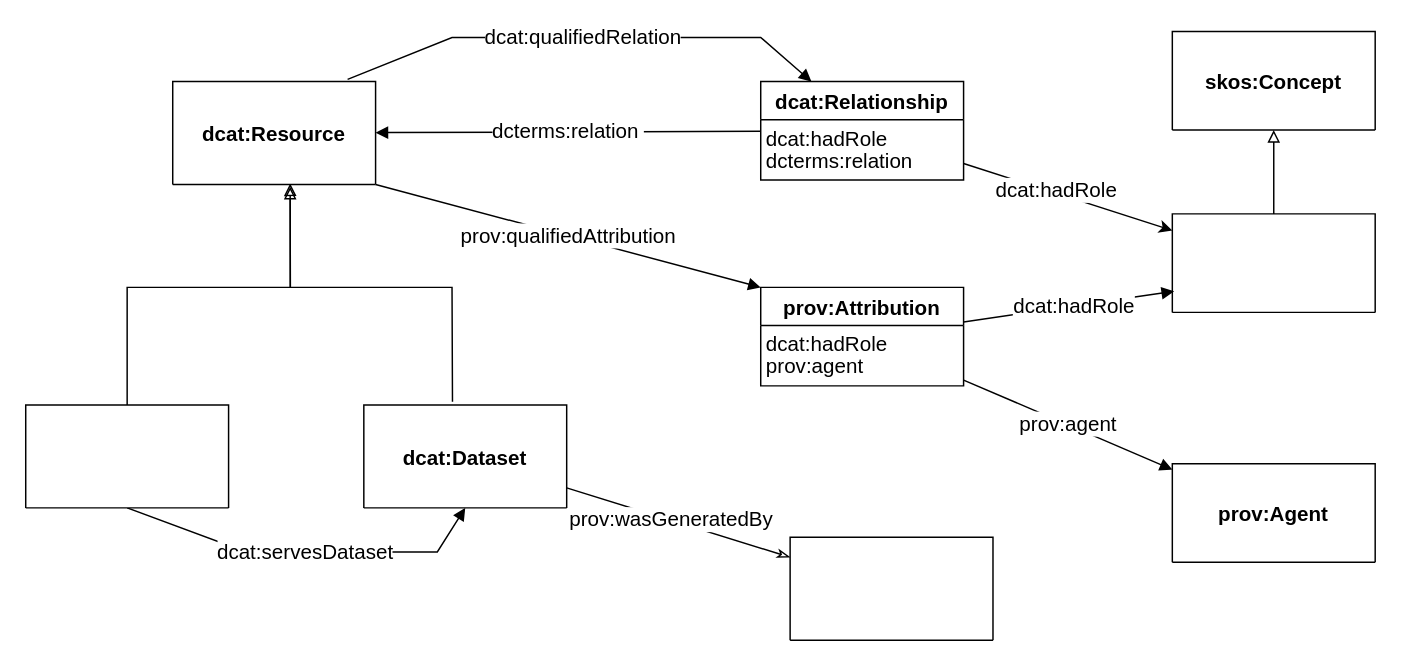
Image size: 1401x666. Some labels were removed from this diagram. Here are the shapes that lost their labels. From the top down, the centre of each, then its label:
[1273,262]: dcat:Role
[126,456]: dcat:DataService
[891,588]: prov:Activity
